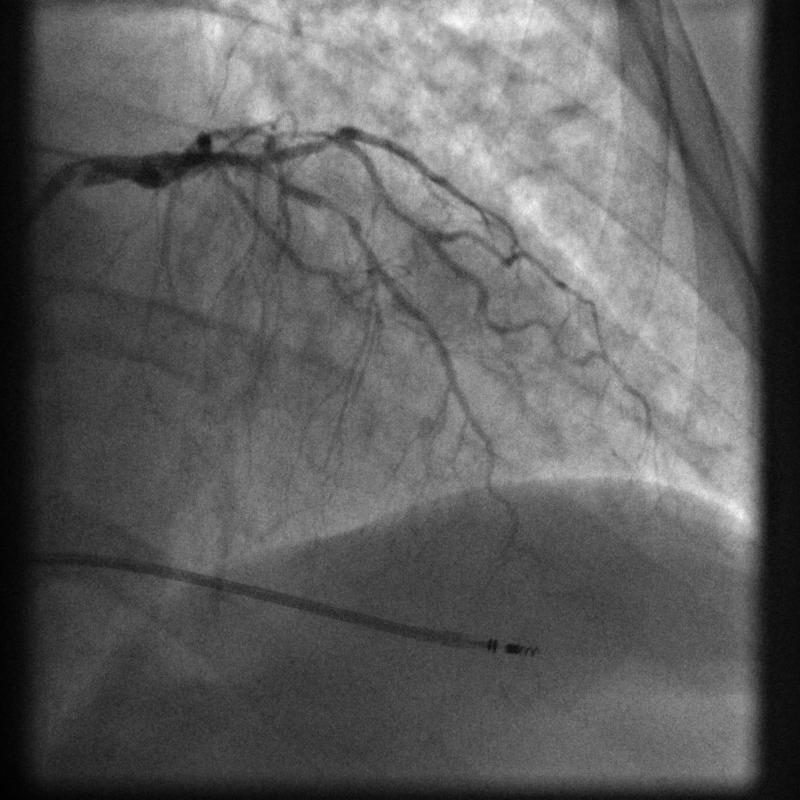Stenosis: (315, 195, 361, 244)
